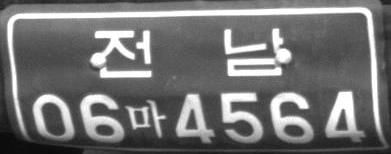0: (31, 92, 76, 140)
4: (324, 90, 365, 142), (174, 92, 215, 143)
5: (219, 91, 264, 144)
6: (269, 91, 314, 144), (79, 93, 124, 144)
마: (125, 98, 166, 139)
전남_D: (94, 27, 284, 77)
